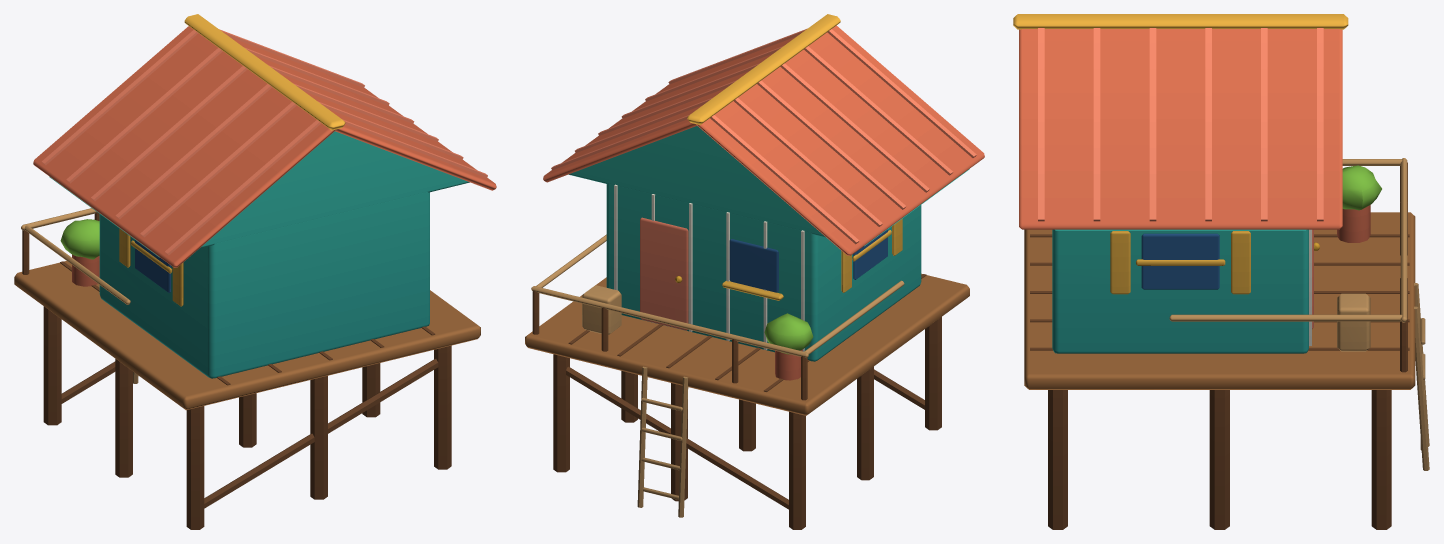
Rendered from stilt-house.glb.
3 views of the same model, side by side, from view 1: azimuth 30°, elevation 25°; view 2: azimuth 150°, elevation 25°; view 3: azimuth 270°, elevation 25° (orthographic). The views are drawn at different scales.
Parts seen in each view (by area): view 1: stilt-house Teal, stilt-house Terracotta, stilt-house Dark wood, stilt-house Warm wood, stilt-house Coral, stilt-house Mustard, stilt-house Pale wood, stilt-house Lime leaf, stilt-house Tinted glass; view 2: stilt-house Terracotta, stilt-house Teal, stilt-house Warm wood, stilt-house Coral, stilt-house Dark wood, stilt-house Pale wood, stilt-house Mustard, stilt-house Tinted glass, stilt-house Warm white, stilt-house Lime leaf; view 3: stilt-house Terracotta, stilt-house Warm wood, stilt-house Teal, stilt-house Dark wood, stilt-house Coral, stilt-house Mustard, stilt-house Pale wood, stilt-house Tinted glass, stilt-house Lime leaf.
Part boxes in pixels (box(x1,y1,x2,y2)): stilt-house Teal: box(49, 131, 469, 378); stilt-house Terracotta: box(33, 26, 496, 286); stilt-house Dark wood: box(22, 212, 451, 529); stilt-house Warm wood: box(14, 261, 480, 410); stilt-house Coral: box(41, 29, 487, 255); stilt-house Mustard: box(119, 14, 345, 306); stilt-house Pale wood: box(21, 208, 138, 383); stilt-house Lime leaf: box(60, 219, 99, 259); stilt-house Tinted glass: box(135, 240, 170, 292); stilt-house Terracotta: box(543, 25, 984, 380); stilt-house Teal: box(568, 126, 969, 361); stilt-house Warm wood: box(525, 273, 969, 415); stilt-house Coral: box(551, 28, 976, 330); stilt-house Dark wood: box(532, 274, 941, 529); stilt-house Pale wood: box(531, 234, 904, 517); stilt-house Mustard: box(687, 14, 902, 300); stilt-house Tinted glass: box(729, 229, 887, 292); stilt-house Warm white: box(614, 184, 804, 351); stilt-house Lime leaf: box(764, 313, 813, 354); stilt-house Terracotta: box(1019, 29, 1370, 242); stilt-house Warm wood: box(1024, 212, 1415, 389); stilt-house Teal: box(1052, 229, 1308, 353); stilt-house Dark wood: box(1030, 162, 1409, 529); stilt-house Coral: box(1038, 28, 1323, 328); stilt-house Mustard: box(1013, 14, 1348, 294); stilt-house Pale wood: box(1169, 158, 1429, 470); stilt-house Tinted glass: box(1141, 233, 1219, 289); stilt-house Lime leaf: box(1342, 165, 1381, 210).
Size of the model in its own units: 3.8 by 4.36 by 3.73.
11 materials, 10 textured.
